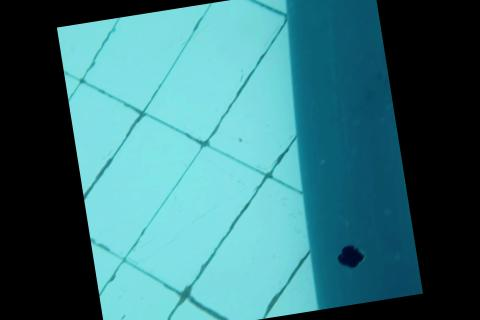kebocoran: (334, 239, 370, 270)
